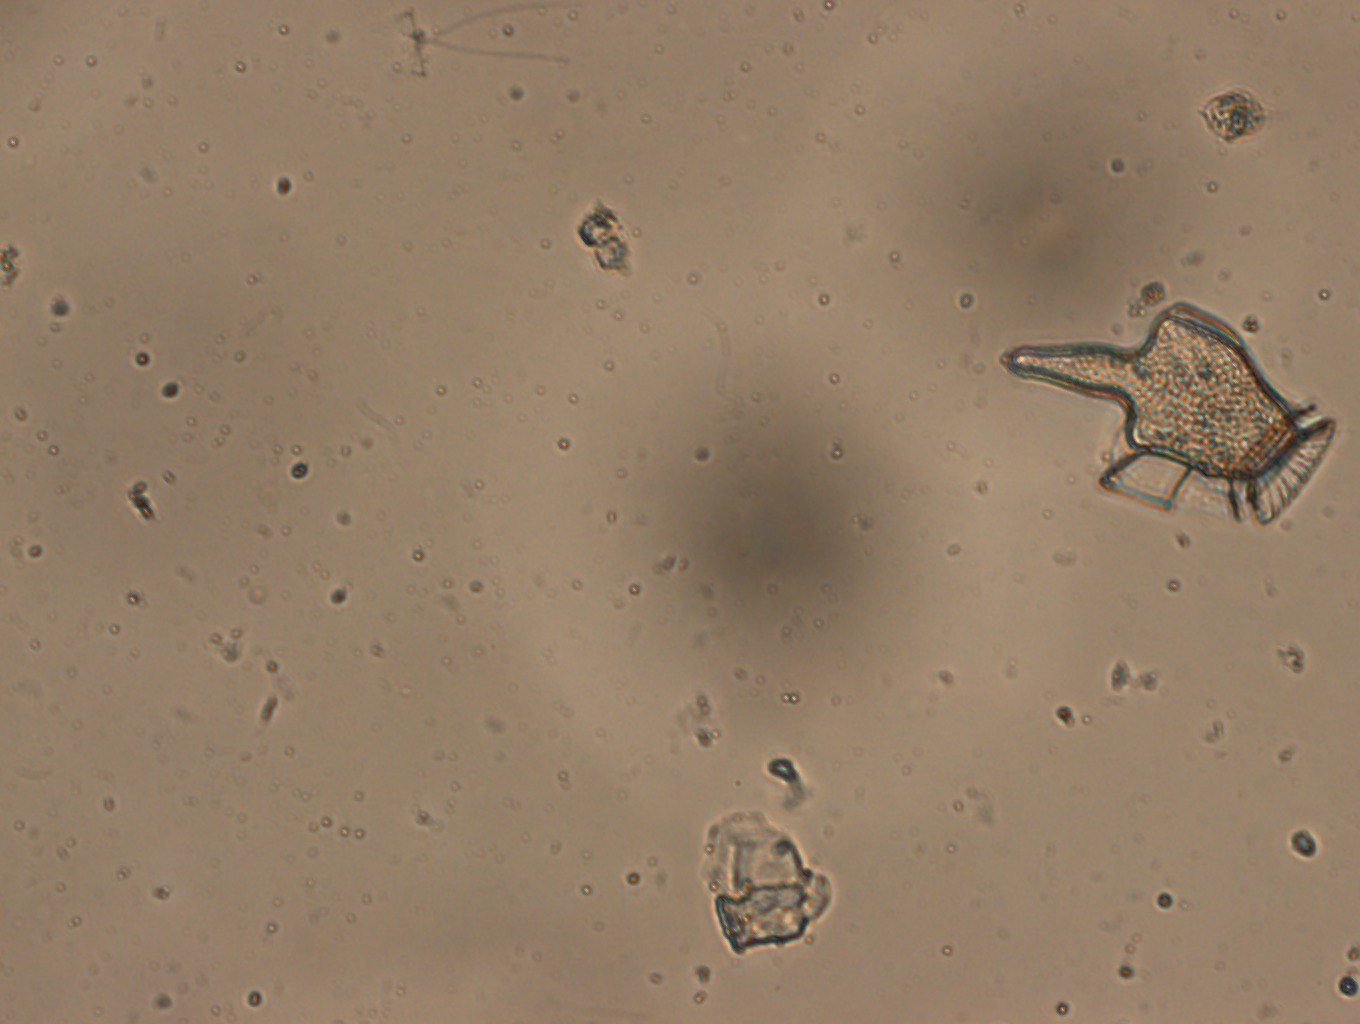dinophysis caudata: (1007, 299, 1338, 527)
